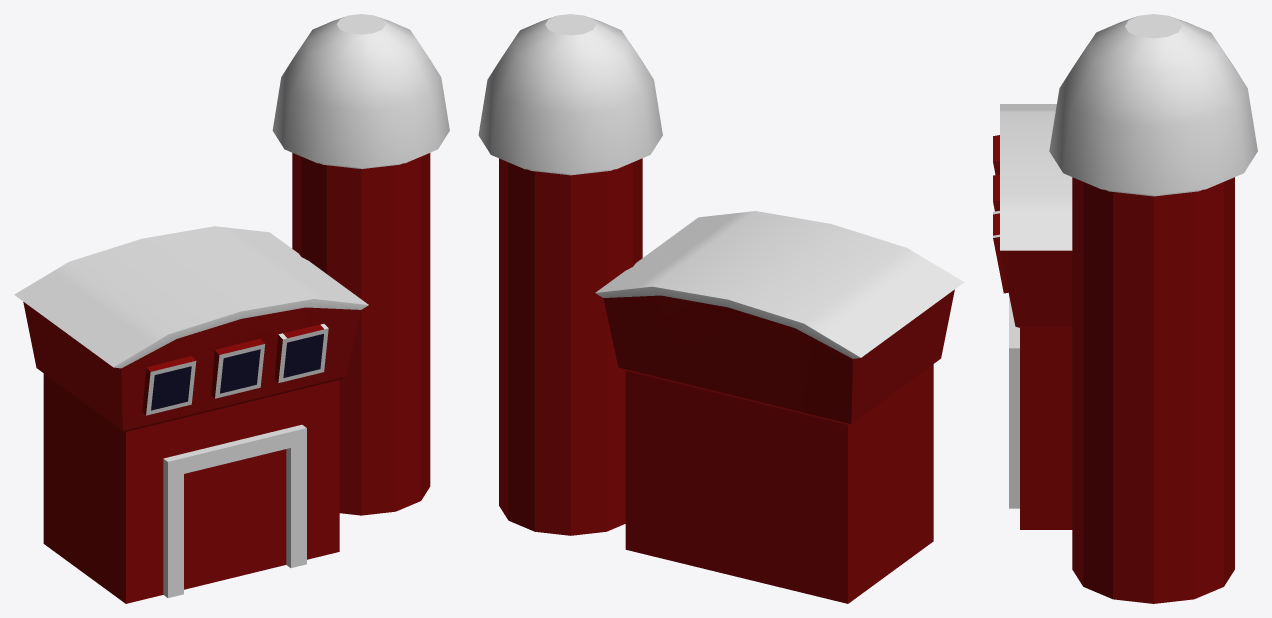
File: Ahr.fbx
3 views of the same model, side by side, from view 1: azimuth 30°, elevation 25°; view 2: azimuth 150°, elevation 25°; view 3: azimuth 270°, elevation 25° (orthographic). The views are drawn at different scales.
Visible parts, largest first — view 1: polySurface1, polySurface2, polySurface4, polySurface5, polySurface3; view 2: polySurface1, polySurface2; view 3: polySurface2, polySurface1, polySurface5.
Part boxes in pixels (x1,y1,x2,y2): polySurface1: [14, 226, 368, 603]; polySurface2: [272, 14, 449, 515]; polySurface4: [211, 339, 265, 398]; polySurface5: [274, 324, 328, 382]; polySurface3: [142, 356, 196, 415]; polySurface1: [595, 211, 964, 603]; polySurface2: [478, 14, 662, 535]; polySurface2: [1049, 14, 1257, 603]; polySurface1: [1000, 104, 1072, 529]; polySurface5: [993, 210, 1008, 293].
Size of the model in its own units: 4190 by 4793 by 2097.
